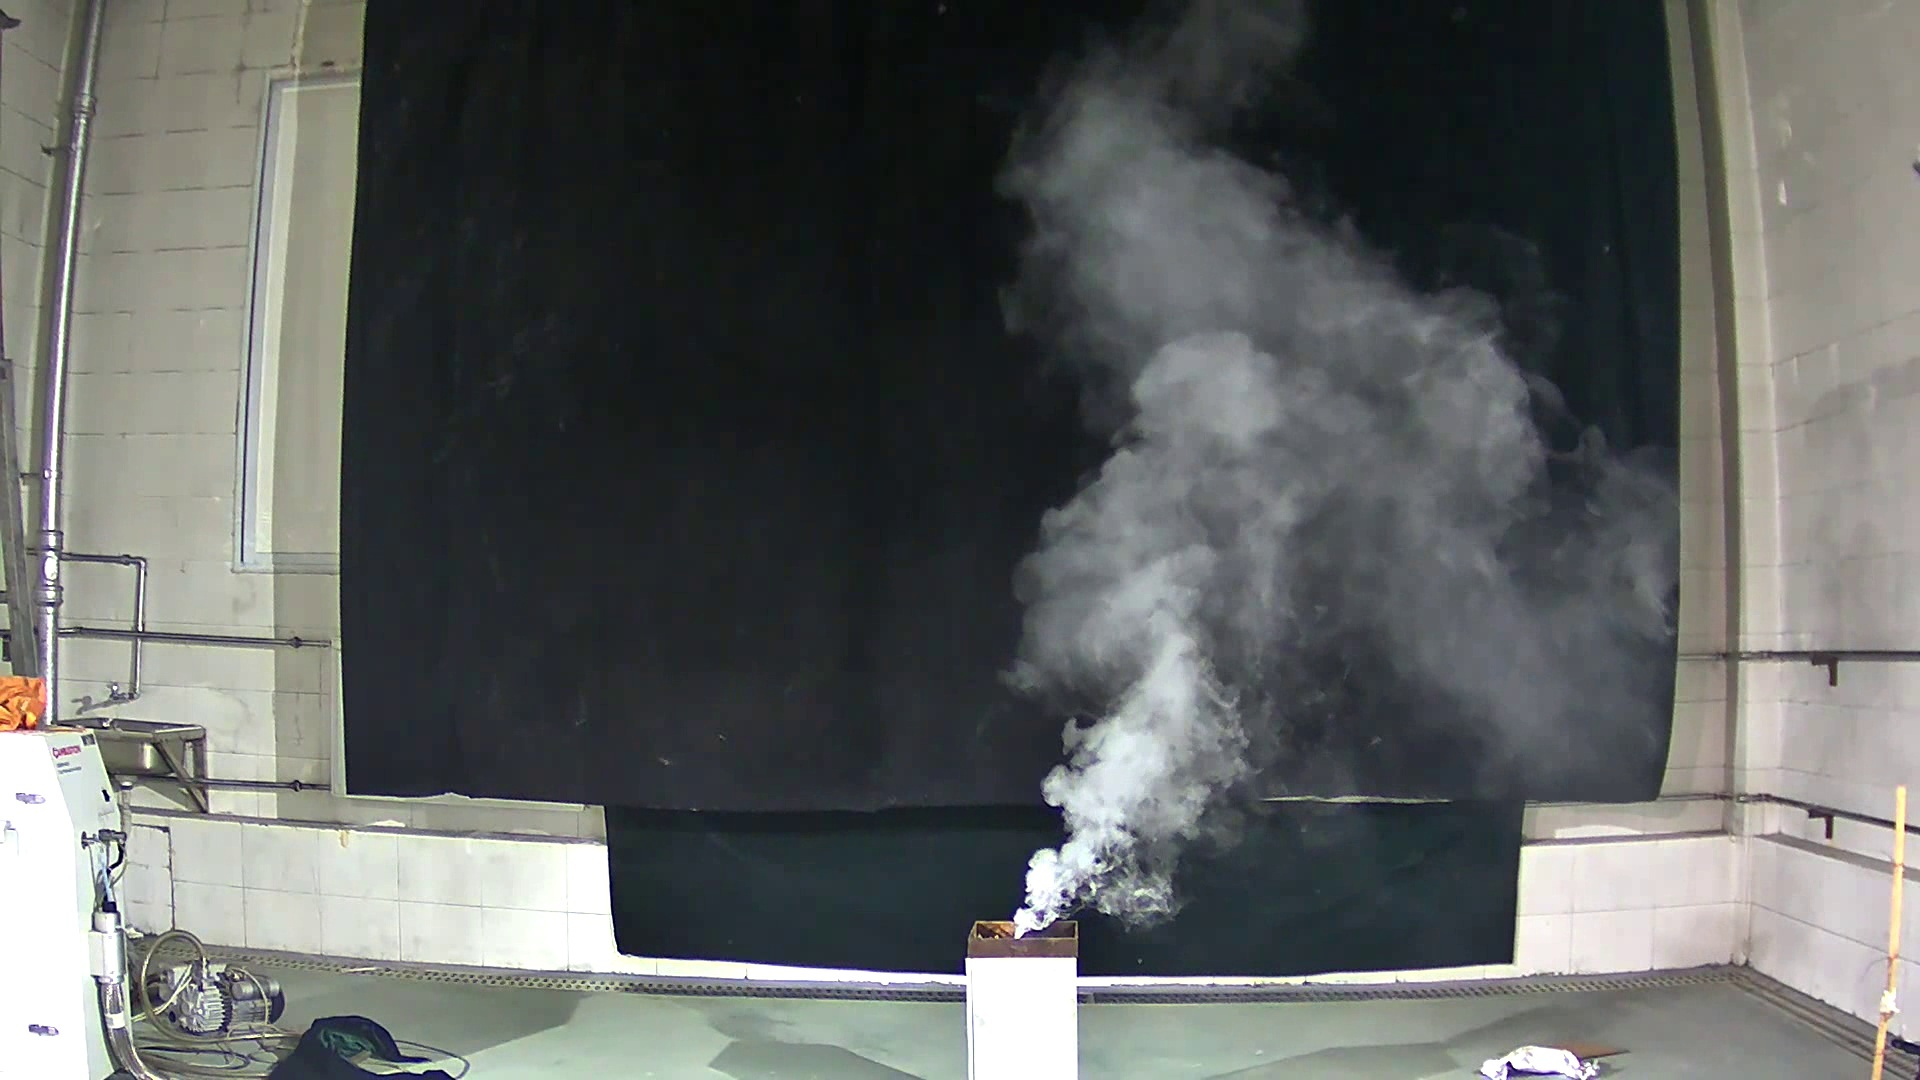smoke: (957, 51, 1681, 924)
